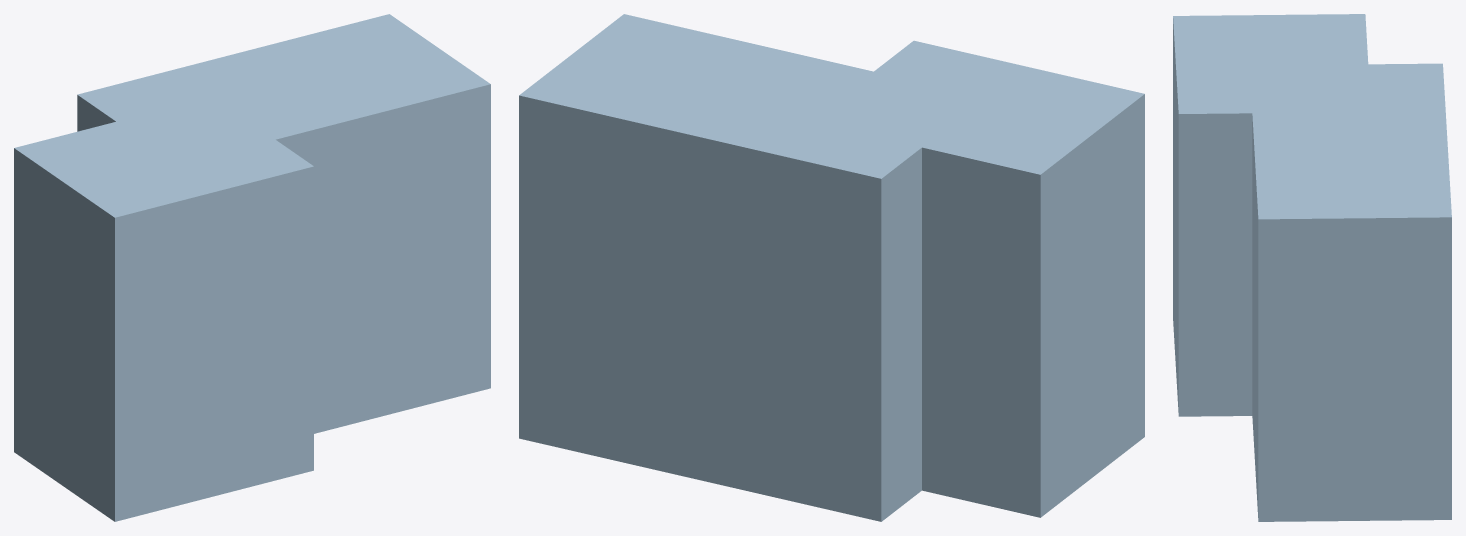
File: osm_way_223859801.glb
The picture shows the model from 3 angles, left to right: view 1: azimuth 30°, elevation 25°; view 2: azimuth 150°, elevation 25°; view 3: azimuth 270°, elevation 25°; orthographic projection. The views are drawn at different scales.
Visible parts, largest first — view 1: osm_way_223859801; view 2: osm_way_223859801; view 3: osm_way_223859801.
Boxes of the visible parts, x1=… form: osm_way_223859801: x1=14, y1=14, x2=490, y2=521; osm_way_223859801: x1=519, y1=14, x2=1144, y2=521; osm_way_223859801: x1=1173, y1=14, x2=1451, y2=521.
Bounding box in the file's own units: 27.95 × 19.2 × 16.04.
